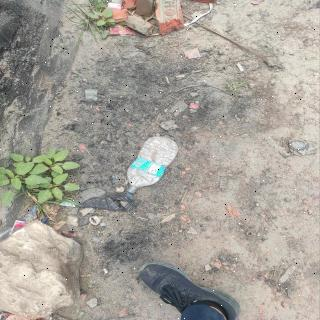Plastic-bottle: (124, 135, 183, 198)
